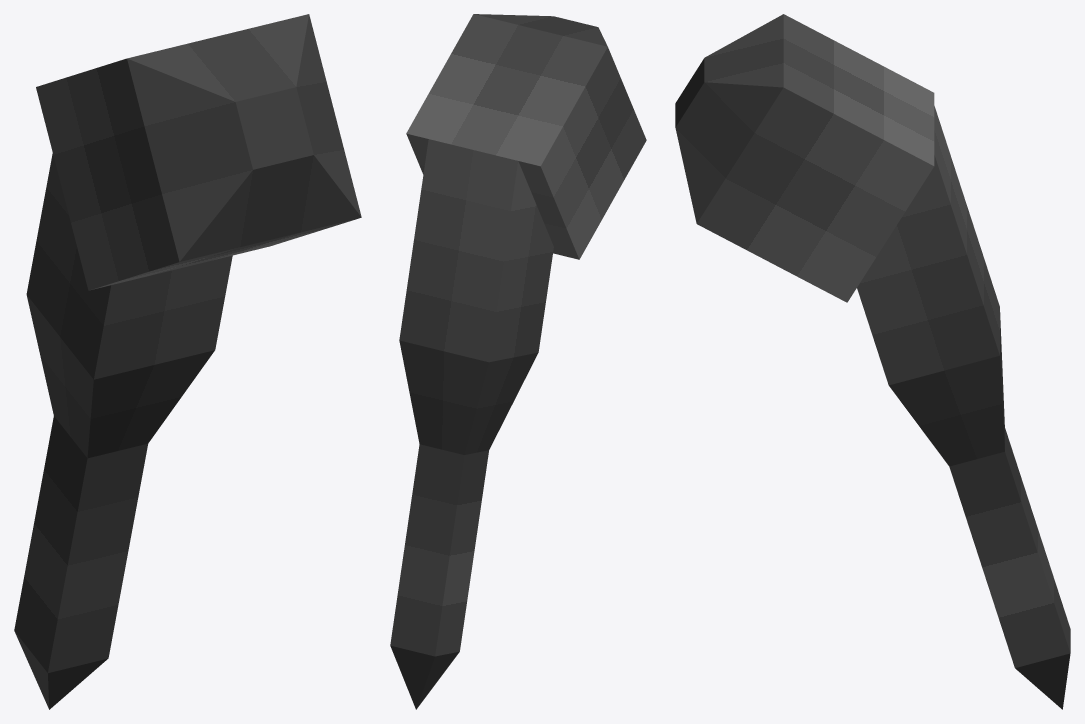
File: leg_ender_front_l.obj
The picture shows the model from 3 angles, left to right: view 1: azimuth 30°, elevation 25°; view 2: azimuth 150°, elevation 25°; view 3: azimuth 270°, elevation 25°; orthographic projection. The views are drawn at different scales.
Parts seen in each view (by area): view 1: LEG_ENDER_LEFTFRONT_Cube.006; view 2: LEG_ENDER_LEFTFRONT_Cube.006; view 3: LEG_ENDER_LEFTFRONT_Cube.006.
Boxes of the visible parts, left/top/right/bottom form: LEG_ENDER_LEFTFRONT_Cube.006: left=14, top=14, right=361, bottom=709; LEG_ENDER_LEFTFRONT_Cube.006: left=390, top=14, right=646, bottom=709; LEG_ENDER_LEFTFRONT_Cube.006: left=675, top=14, right=1070, bottom=709.
Size of the model in its own units: 0.1875 by 0.784 by 0.4258.
